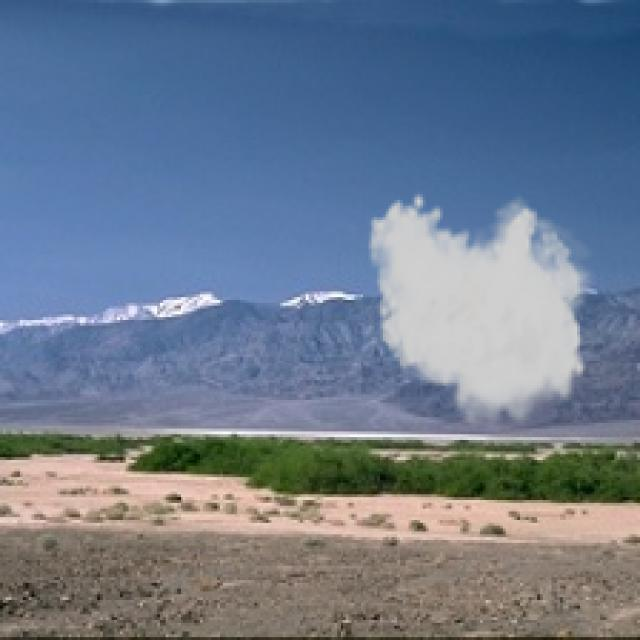Smoke: (366, 192, 600, 434)
